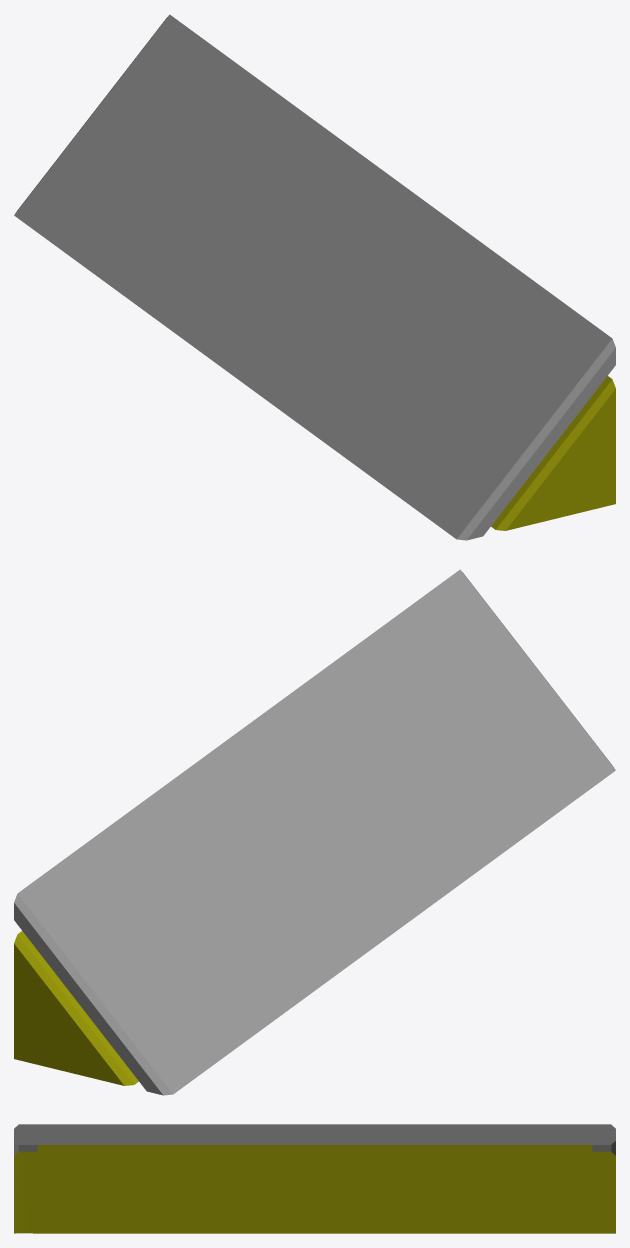
File: Mesh_Levelblock_Cube_Ramp.FBX
The picture shows the model from 3 angles, top to bottom: view 1: azimuth 30°, elevation 25°; view 2: azimuth 150°, elevation 25°; view 3: azimuth 270°, elevation 25°; orthographic projection. The views are drawn at different scales.
Visible parts, largest first — view 1: Mesh_BlockRamp1; view 2: Mesh_BlockRamp1; view 3: Mesh_BlockRamp1.
Part boxes in pixels (left/top/right/bottom): Mesh_BlockRamp1: left=14, top=14, right=615, bottom=540; Mesh_BlockRamp1: left=14, top=569, right=615, bottom=1095; Mesh_BlockRamp1: left=14, top=1124, right=615, bottom=1233.
Size of the model in its own units: 2 by 2 by 10.
